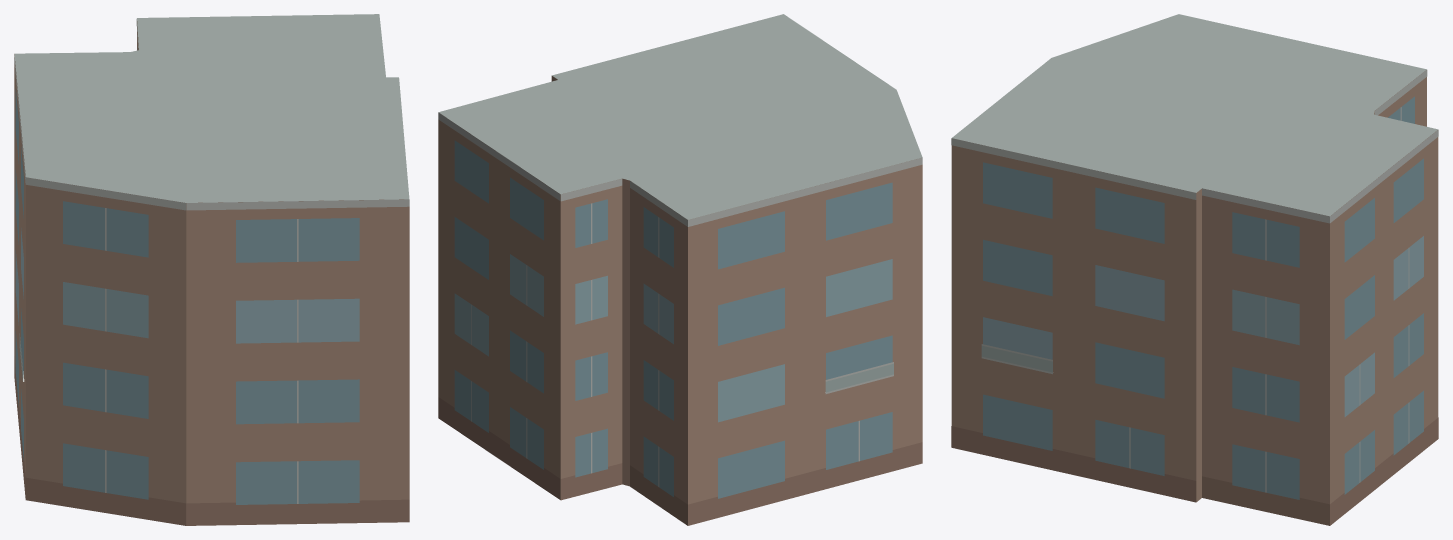
Rendered from survey-upis-33011772.glb.
The picture shows the model from 3 angles, left to right: view 1: azimuth 30°, elevation 25°; view 2: azimuth 150°, elevation 25°; view 3: azimuth 270°, elevation 25°; orthographic projection. The views are drawn at different scales.
Visible parts, largest first — view 1: survey-upis-33011772.tmp; view 2: survey-upis-33011772.tmp; view 3: survey-upis-33011772.tmp.
Part boxes in pixels (left/top/right/bottom): survey-upis-33011772.tmp: left=14, top=14, right=409, bottom=525; survey-upis-33011772.tmp: left=438, top=14, right=922, bottom=525; survey-upis-33011772.tmp: left=951, top=14, right=1438, bottom=525.
Bounding box in the file's own units: 14.73 × 10.5 × 14.98.
